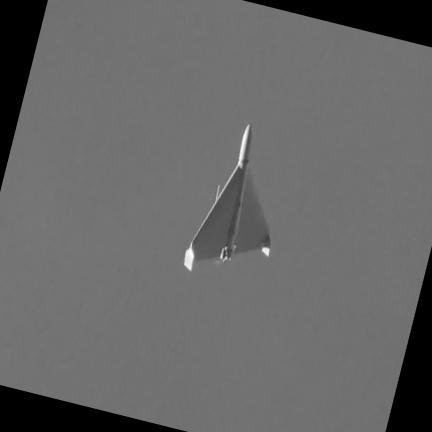Shahed: (183, 124, 269, 270)
